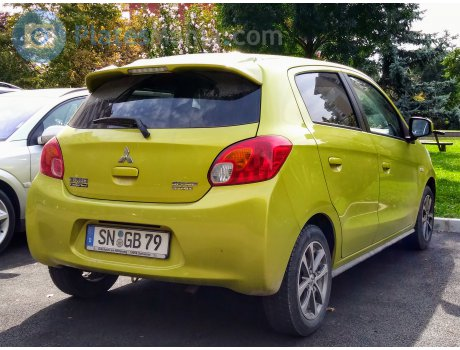License Plates: (91, 226, 165, 249)
